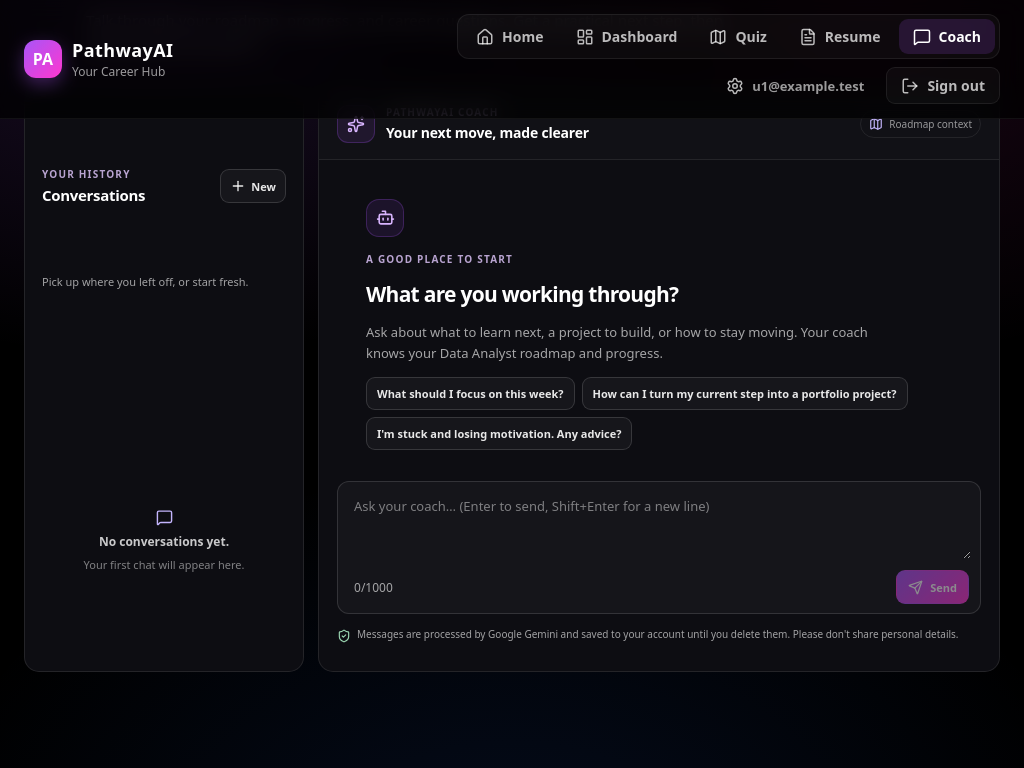
Test case: /coach chat › refuses contact details before sending
The width and height of the screenshot is (1024, 768).
(page scrolled)
In the text box named "Message the coach": (659, 526) [347, 492, 971, 560], type "my email is jane@example.com"
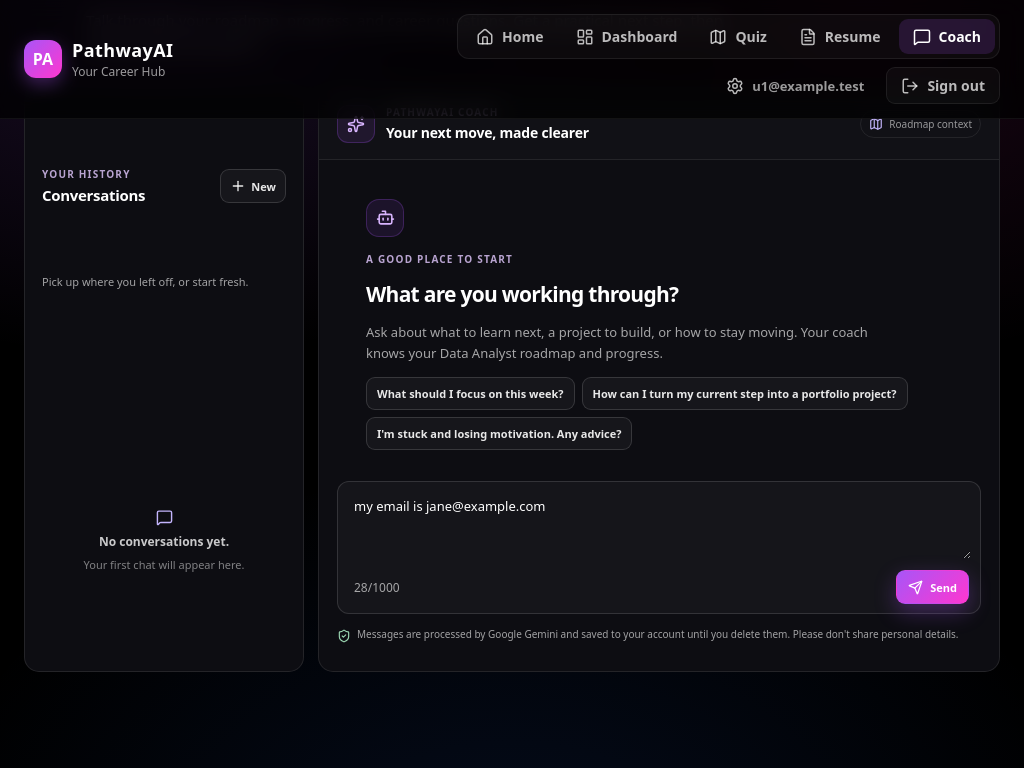
Click the button "Send": (933, 588) [896, 570, 969, 604]
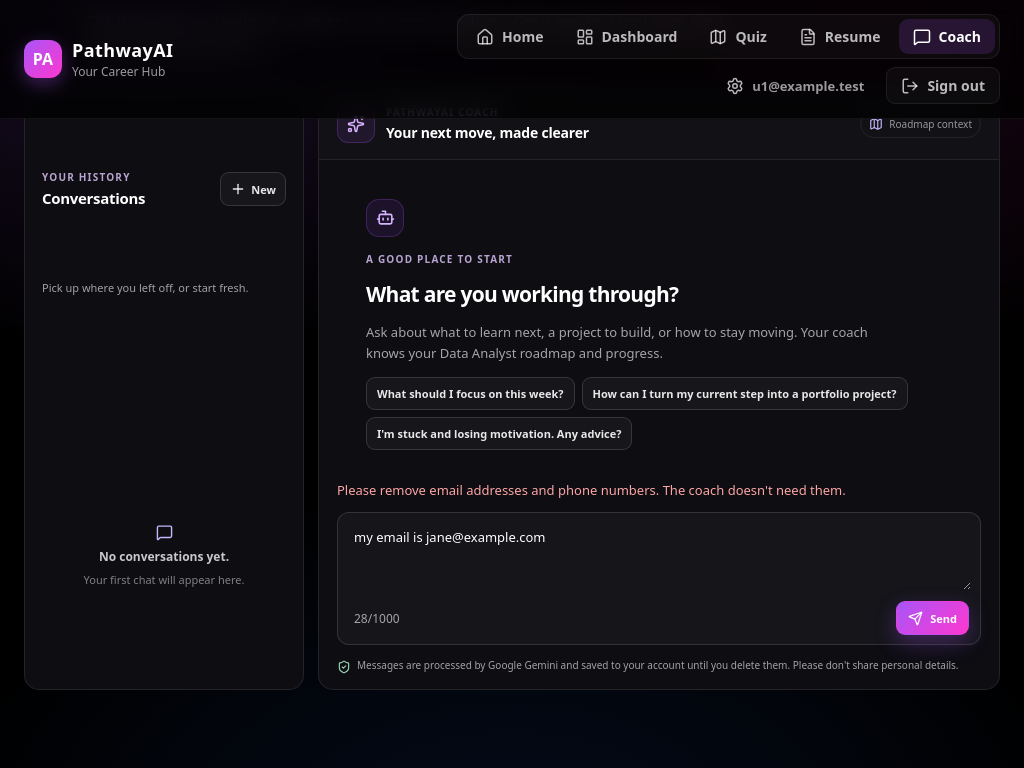
Expected: the text "Please remove email addresses and phone numbers. The coach doesn't need them." is shown, [337, 482, 846, 500]
